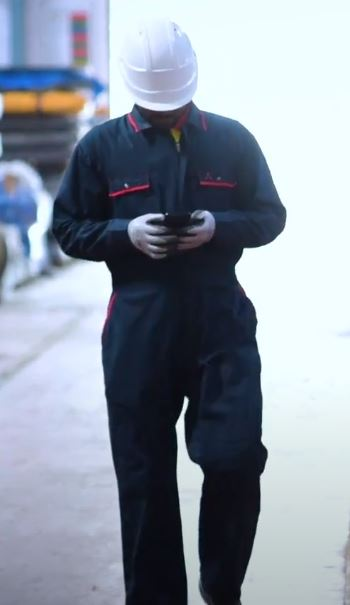Safety Helmet: (102, 4, 208, 136)
